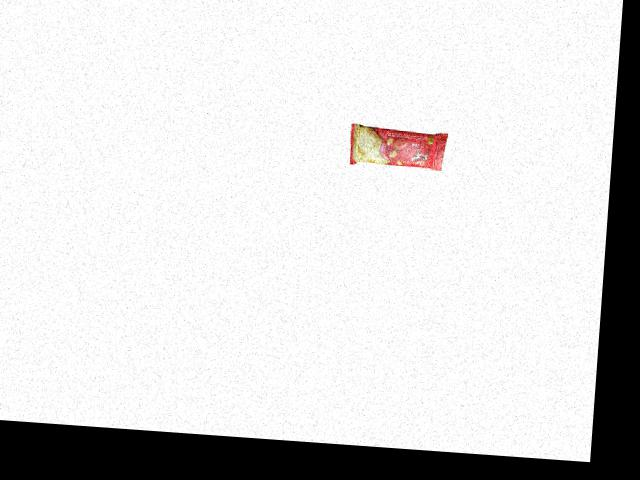chocolate: (348, 117, 455, 174)
